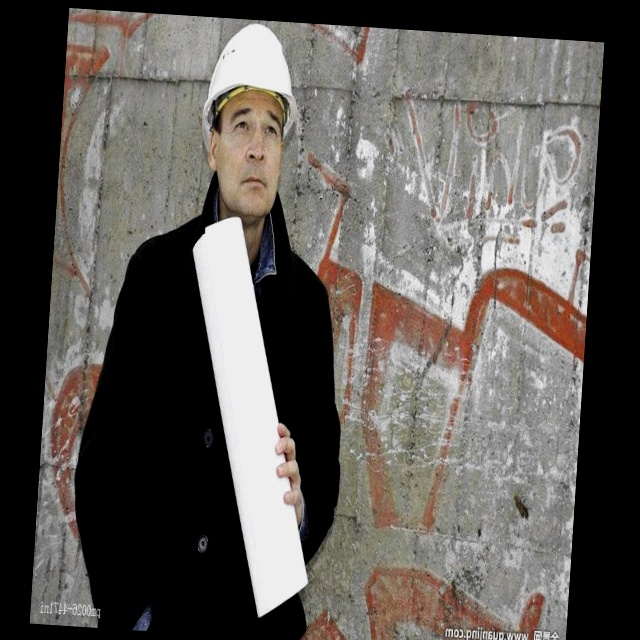Con_Casco: (198, 17, 300, 225)
